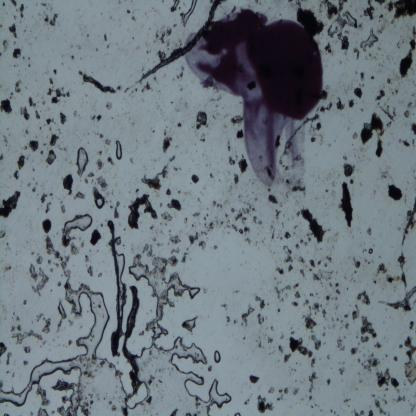Air bubble: (2, 286, 131, 415), (134, 339, 233, 416), (128, 252, 202, 337), (61, 213, 92, 234), (180, 2, 198, 29), (362, 27, 380, 54), (74, 146, 90, 175), (181, 315, 197, 334), (55, 298, 68, 320), (113, 138, 124, 163), (95, 195, 106, 211), (172, 0, 182, 13), (213, 348, 221, 364), (234, 410, 242, 416), (368, 249, 374, 255)
Background material: (322, 2, 358, 48), (294, 2, 326, 38), (299, 206, 328, 244), (397, 28, 416, 81), (338, 179, 356, 228), (368, 111, 384, 159), (273, 280, 302, 306), (402, 335, 416, 386), (228, 204, 250, 236), (0, 190, 22, 221), (9, 324, 43, 344), (385, 0, 416, 20), (142, 167, 168, 190), (374, 367, 400, 390), (276, 242, 294, 274), (29, 268, 48, 297), (288, 338, 314, 359), (45, 235, 65, 262), (350, 400, 388, 414), (304, 297, 329, 318), (268, 385, 300, 401), (360, 312, 377, 340), (80, 354, 100, 377), (378, 104, 398, 127), (362, 352, 382, 374), (35, 385, 52, 406), (192, 110, 208, 132), (354, 287, 371, 307), (188, 231, 205, 251), (81, 392, 95, 416), (203, 213, 220, 232), (312, 269, 334, 283), (154, 26, 172, 43), (387, 183, 403, 202), (160, 133, 174, 154), (44, 12, 61, 29), (240, 305, 256, 323), (256, 298, 267, 324), (341, 161, 356, 180), (377, 166, 392, 184), (308, 370, 318, 397), (144, 236, 155, 260), (41, 314, 53, 336), (304, 314, 320, 330), (95, 175, 110, 192), (63, 173, 74, 196), (0, 96, 13, 115), (175, 62, 186, 83), (391, 390, 407, 404), (240, 390, 254, 406), (375, 261, 389, 277), (362, 0, 375, 17), (45, 149, 58, 166), (258, 394, 275, 407), (47, 133, 61, 148), (168, 199, 183, 213), (308, 336, 323, 350), (318, 99, 334, 112), (138, 82, 154, 95), (91, 228, 102, 246), (18, 106, 30, 122), (322, 39, 334, 55), (29, 263, 39, 282), (52, 88, 63, 105), (248, 372, 262, 385), (28, 139, 40, 154), (351, 45, 362, 61), (8, 24, 20, 38), (353, 86, 365, 100), (146, 371, 158, 385), (168, 233, 182, 245), (208, 198, 223, 209), (239, 158, 249, 174), (231, 114, 244, 126), (358, 334, 372, 345), (162, 210, 173, 224), (113, 200, 121, 219), (396, 138, 411, 148), (174, 116, 184, 131), (190, 171, 200, 186), (12, 47, 22, 62), (1, 38, 10, 54), (350, 305, 360, 319), (107, 398, 117, 412), (156, 50, 166, 64), (58, 112, 68, 126), (268, 192, 279, 204), (282, 352, 293, 364), (380, 25, 390, 38), (376, 89, 386, 102), (336, 99, 346, 112), (292, 184, 308, 192), (5, 350, 13, 366), (168, 152, 177, 166), (17, 155, 26, 169), (61, 236, 72, 247), (253, 214, 264, 225), (387, 274, 399, 284), (74, 190, 86, 200), (121, 404, 131, 416), (235, 128, 245, 140), (408, 316, 416, 331), (28, 96, 38, 108), (70, 242, 79, 255), (337, 338, 346, 351), (13, 80, 21, 94), (35, 407, 49, 415), (227, 154, 237, 165), (405, 101, 416, 111), (349, 344, 358, 356), (18, 2, 24, 20), (0, 340, 7, 355), (102, 31, 110, 44), (410, 120, 416, 137), (244, 235, 254, 245), (352, 259, 362, 269), (23, 343, 32, 354), (40, 192, 48, 204), (189, 208, 201, 216), (12, 170, 20, 182), (58, 202, 66, 214), (36, 310, 44, 322), (308, 257, 316, 269), (374, 0, 390, 6), (184, 410, 199, 416), (170, 407, 180, 416), (45, 117, 55, 126), (373, 340, 383, 349), (2, 264, 13, 272), (310, 357, 318, 368), (300, 268, 308, 279), (86, 266, 94, 277), (366, 225, 374, 236), (348, 97, 356, 108), (36, 253, 43, 265), (226, 138, 232, 152), (146, 393, 153, 405), (56, 320, 62, 334), (315, 121, 322, 133), (284, 231, 293, 240), (104, 101, 113, 110), (316, 257, 324, 267), (91, 113, 101, 121), (358, 70, 366, 80), (335, 287, 343, 297), (46, 86, 54, 96), (309, 134, 317, 144), (130, 13, 137, 24), (34, 110, 41, 121), (270, 225, 275, 240), (20, 357, 29, 365), (10, 0, 19, 8), (274, 207, 280, 219), (234, 172, 240, 184), (337, 367, 346, 375), (342, 321, 350, 330), (300, 257, 308, 266), (0, 229, 7, 239), (409, 402, 416, 412), (221, 299, 228, 309), (255, 339, 263, 347), (62, 91, 70, 99), (195, 399, 203, 407), (182, 216, 189, 225), (10, 324, 17, 333), (67, 338, 74, 347), (46, 202, 51, 214), (48, 76, 54, 86), (107, 157, 114, 165), (344, 398, 352, 405), (368, 74, 376, 81), (392, 89, 400, 96), (326, 255, 333, 263), (212, 112, 219, 120), (211, 242, 218, 250), (268, 336, 275, 344), (405, 109, 410, 120), (288, 328, 297, 334), (72, 110, 78, 119), (226, 317, 232, 326), (390, 17, 396, 26), (168, 23, 178, 28), (138, 331, 145, 338), (22, 298, 28, 306), (166, 189, 172, 197), (84, 255, 90, 263), (324, 186, 330, 194), (39, 340, 47, 346), (386, 52, 392, 60), (333, 282, 341, 288), (326, 378, 332, 386), (209, 170, 214, 179), (52, 68, 58, 75), (104, 140, 111, 146), (294, 242, 300, 249), (342, 313, 349, 319), (309, 394, 314, 402), (277, 345, 282, 353), (11, 370, 16, 378), (68, 318, 73, 326), (57, 280, 62, 288), (0, 154, 5, 162), (98, 148, 103, 156), (70, 54, 75, 62), (89, 172, 95, 178), (79, 242, 85, 248), (294, 210, 300, 216), (252, 196, 258, 202), (31, 187, 37, 193), (26, 181, 32, 187), (48, 192, 54, 198), (114, 370, 119, 377), (96, 272, 103, 277), (200, 139, 207, 144), (144, 49, 151, 54), (373, 278, 377, 286), (102, 359, 106, 367), (264, 188, 272, 192), (208, 364, 212, 372), (353, 132, 358, 138), (83, 178, 88, 184), (5, 368, 10, 374), (151, 235, 157, 240), (126, 7, 130, 14), (174, 167, 181, 171), (190, 223, 195, 228), (233, 320, 238, 325), (277, 306, 281, 312), (398, 343, 402, 349), (51, 268, 55, 274), (48, 260, 52, 266), (18, 325, 22, 331), (324, 262, 328, 268), (394, 356, 398, 362), (152, 76, 156, 82), (386, 77, 390, 83), (117, 85, 121, 91), (344, 155, 348, 160), (98, 304, 102, 309), (177, 190, 181, 195), (17, 317, 22, 321), (40, 150, 44, 155), (32, 166, 35, 172), (381, 14, 384, 20), (310, 404, 314, 408), (158, 378, 162, 382), (36, 181, 38, 185), (28, 63, 30, 67), (28, 57, 30, 60)
Cellulose filter fibre: (80, 0, 224, 93), (124, 283, 141, 388), (398, 197, 416, 294), (126, 193, 158, 230), (378, 284, 416, 311), (80, 72, 116, 93)
Cotton: (105, 218, 123, 358)
Diatom: (360, 128, 372, 142), (41, 217, 52, 232), (94, 159, 104, 170)
Pen: (184, 11, 324, 186)
